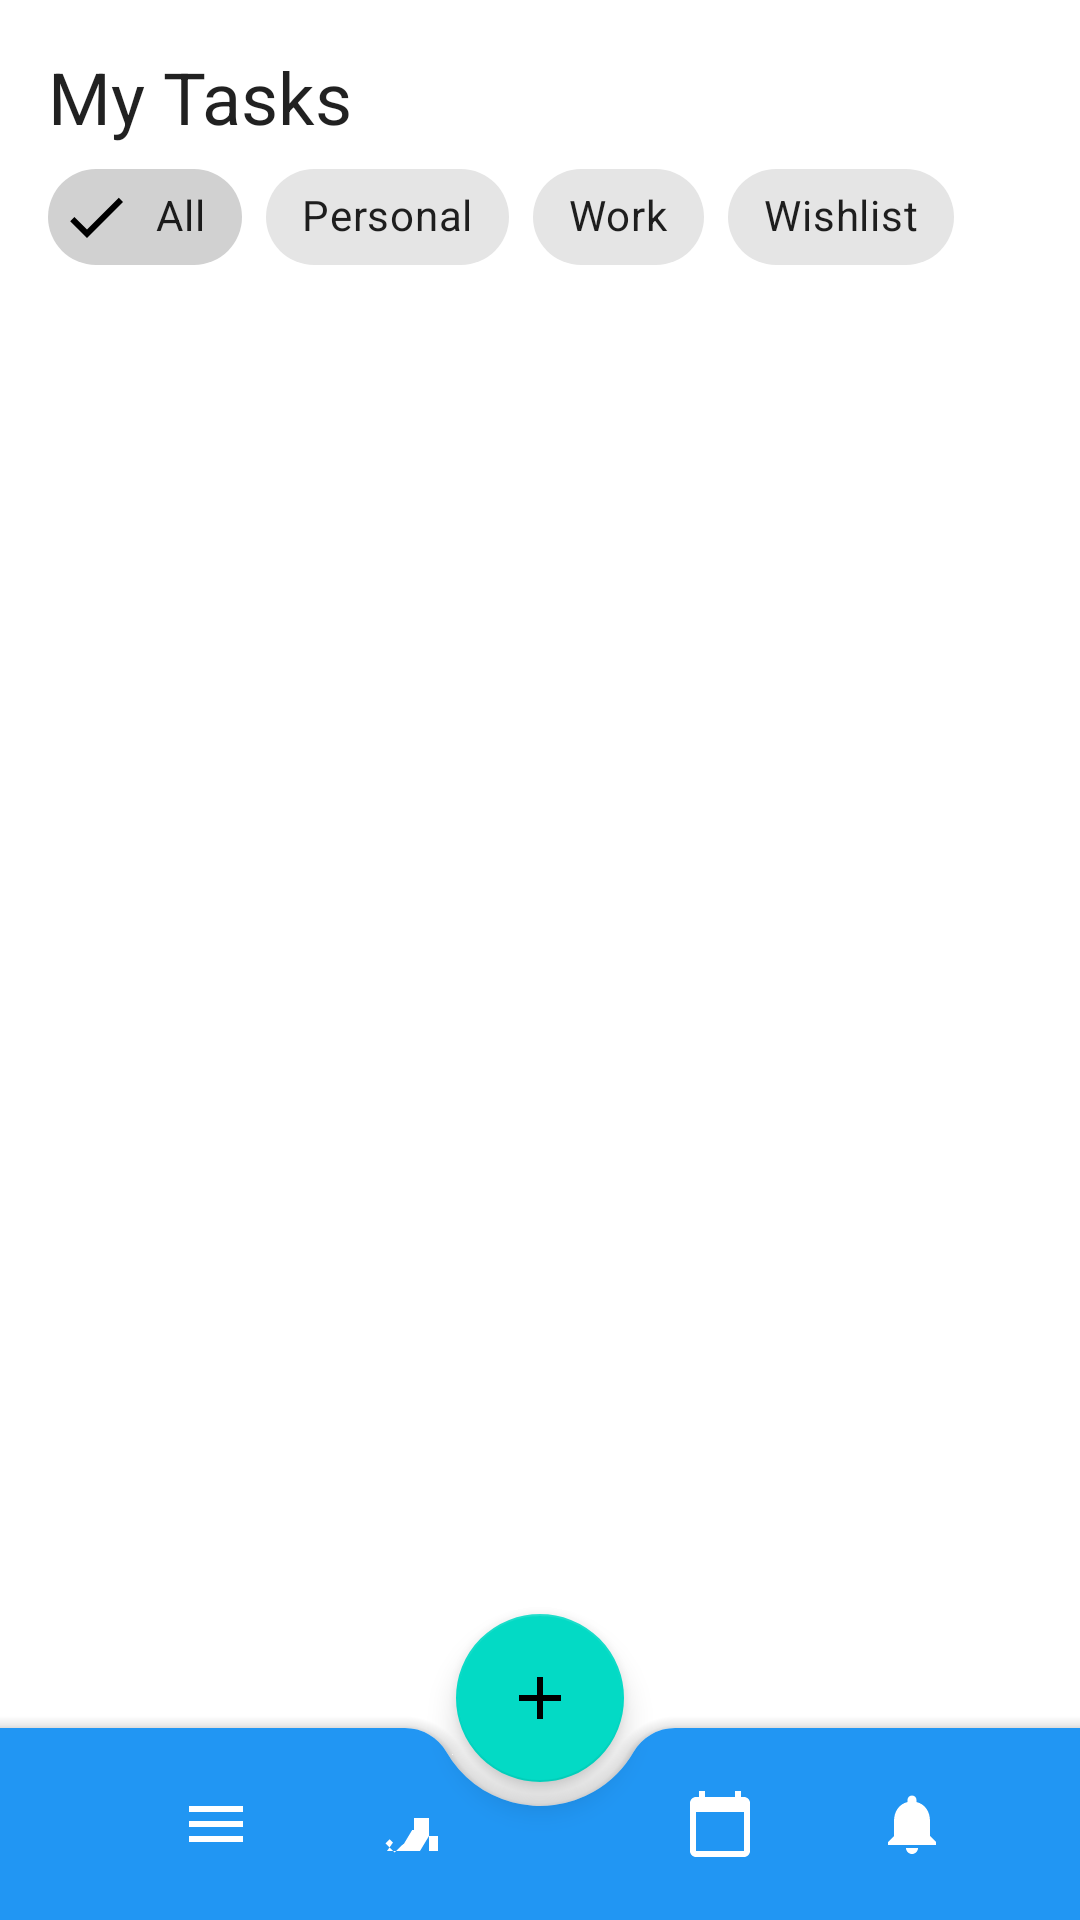

Point at icon controls on the screen. Image size 1080x1920, points as (x,y).
Add new task: (540,1728)
Menu: (216,1824)
Notifications: (912,1824)
